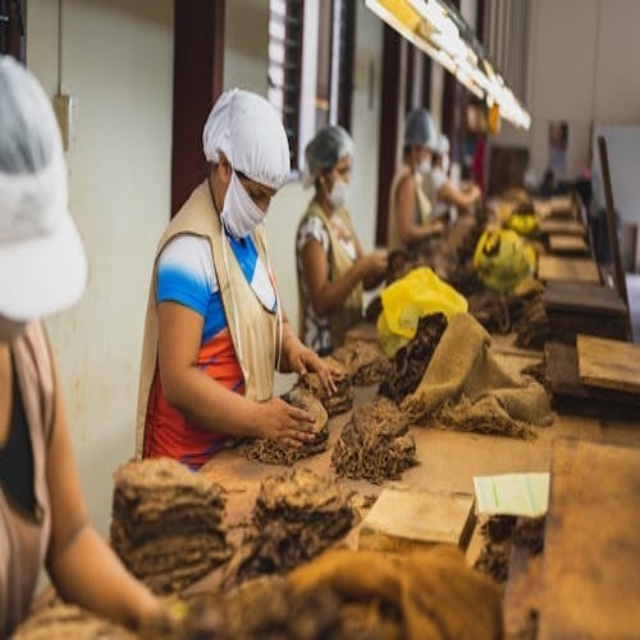Mascara: (210, 165, 269, 238), (320, 177, 355, 209)
Sin_gafas: (236, 167, 277, 208), (334, 163, 352, 177)
Sin_guantes: (258, 391, 326, 450), (295, 344, 346, 398)
